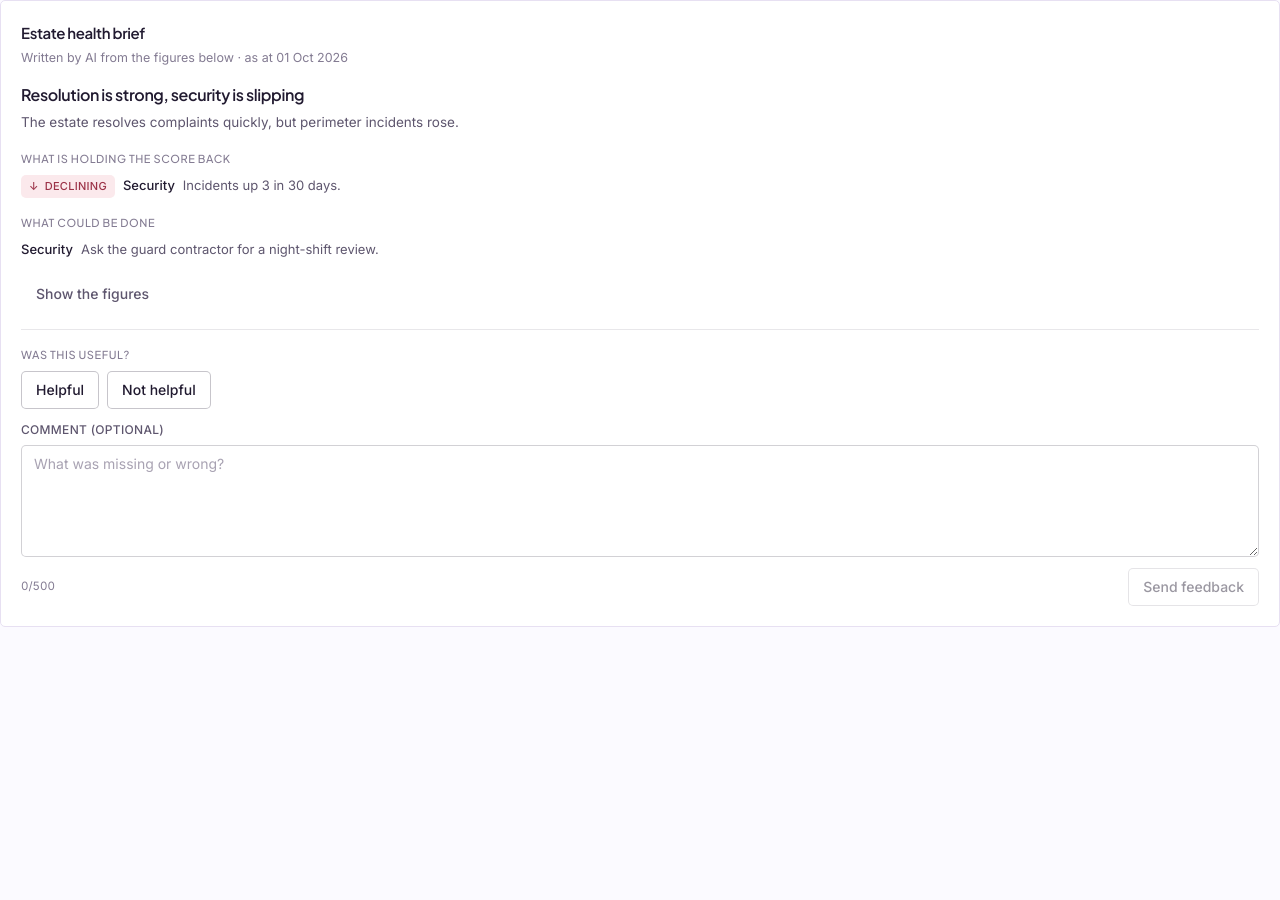
it: Health Brief — the figures › collapses again when the expander is toggled
The width and height of the screenshot is (1280, 900).
What coordinates should you click on to do the following:
click the button "Show the figures"
I would click on:
 (93, 294)
Its box is [21,275,164,313].
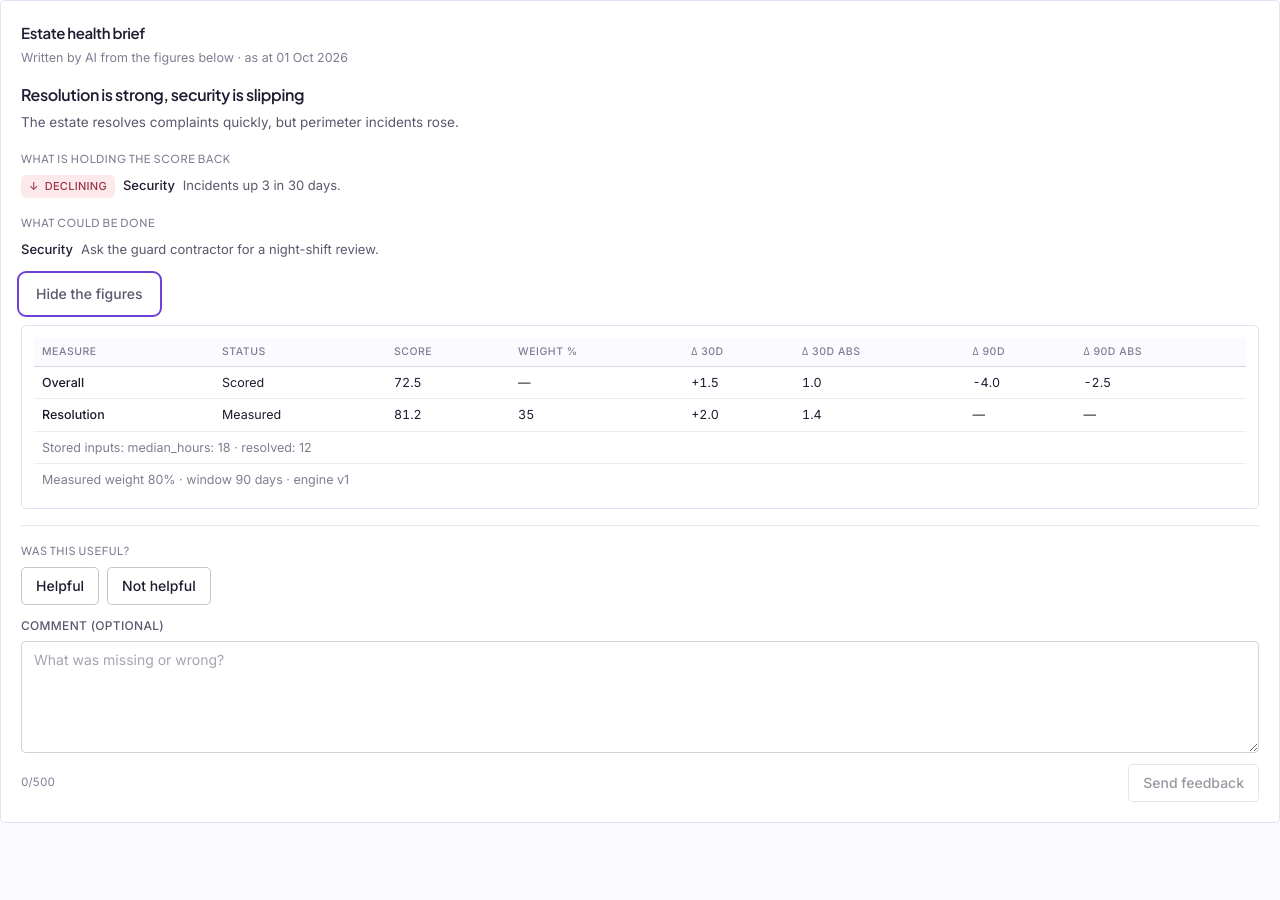
Check: the button named "show the figures" is expanded
What coordinates should you click on to do the following:
click the button named "show the figures"
I would click on:
 (89, 294)
Its box is [21,275,158,313].
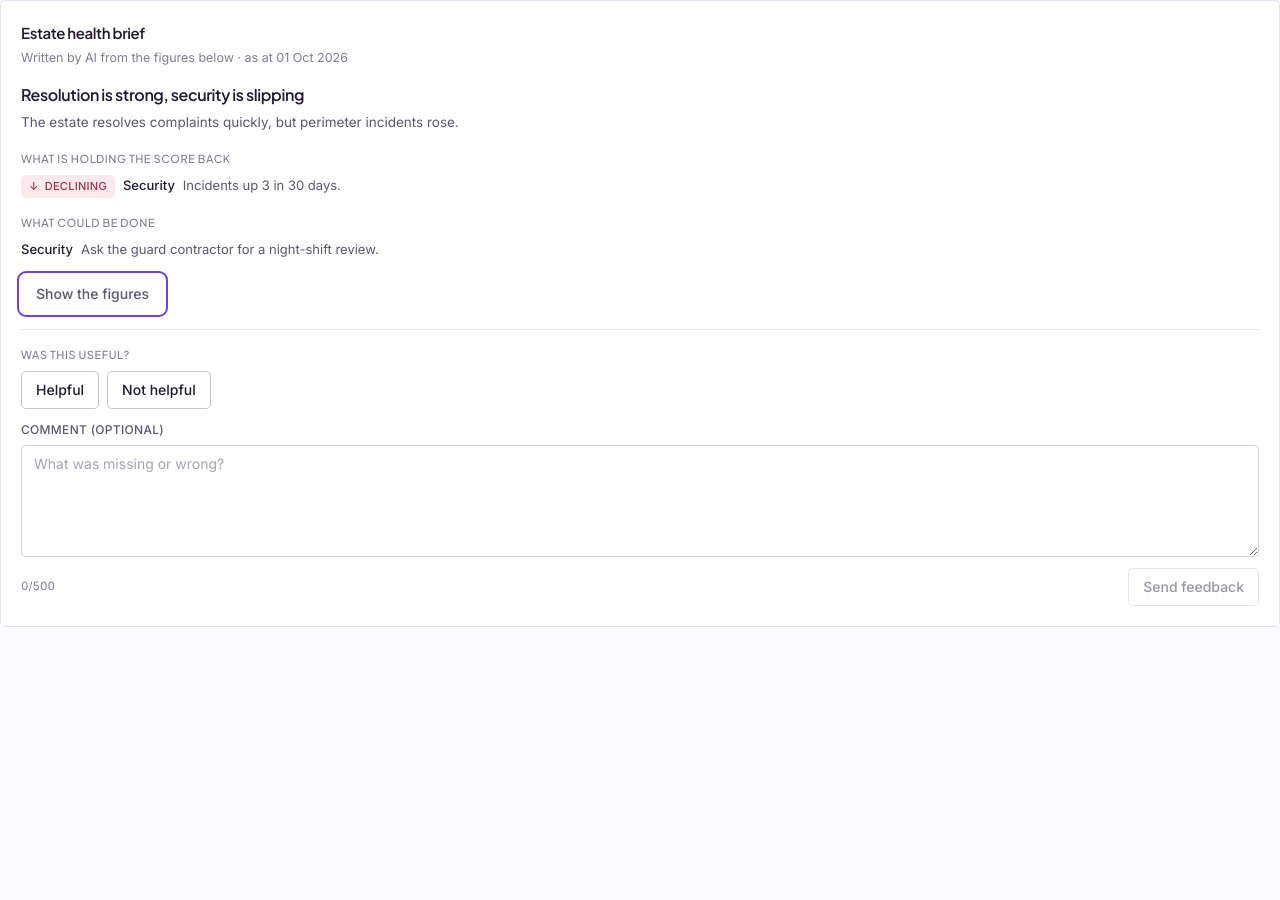
Check: the button "Show the figures" is collapsed, box [21,275,164,313]
Check: the table is gone
